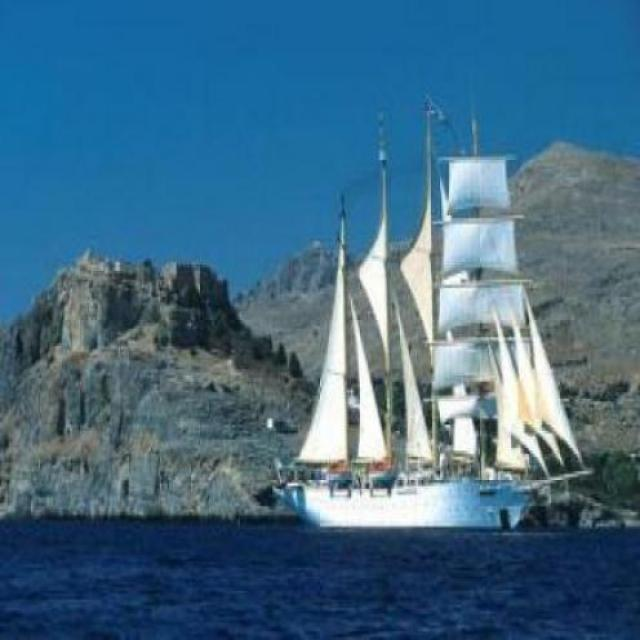boat: (294, 143, 588, 515)
